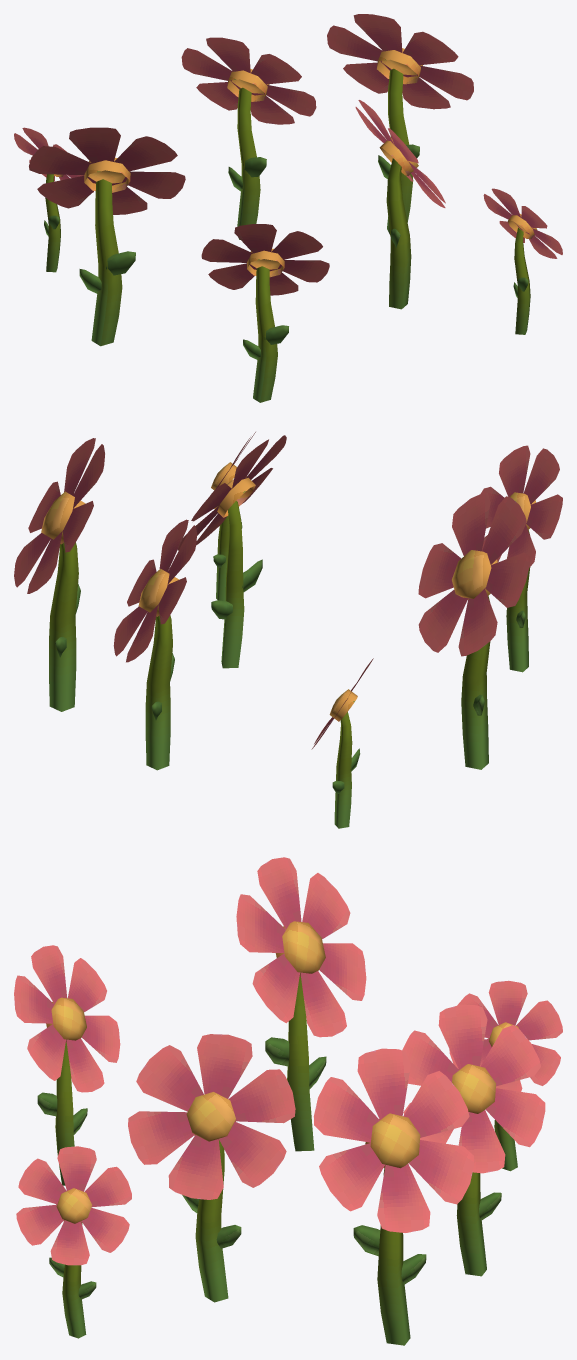
Rendered from FlowerPatch.fbx.
The picture shows the model from 3 angles, top to bottom: view 1: azimuth 30°, elevation 25°; view 2: azimuth 150°, elevation 25°; view 3: azimuth 270°, elevation 25°; orthographic projection. The views are drawn at different scales.
Visible parts, largest first — view 1: redflowers; view 2: redflowers; view 3: redflowers.
Part boxes in pixels (bbox=[...]): redflowers: bbox=[14, 14, 562, 402]; redflowers: bbox=[14, 432, 562, 828]; redflowers: bbox=[14, 857, 562, 1345].
Size of the model in its own units: 1.51 by 0.754 by 1.37.
